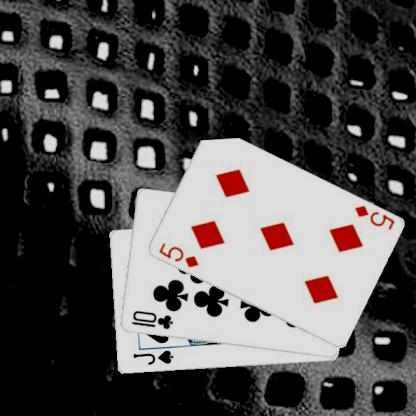10C: (128, 308, 174, 331)
5D: (351, 202, 396, 232), (155, 240, 200, 269)
JS: (130, 348, 174, 367)
